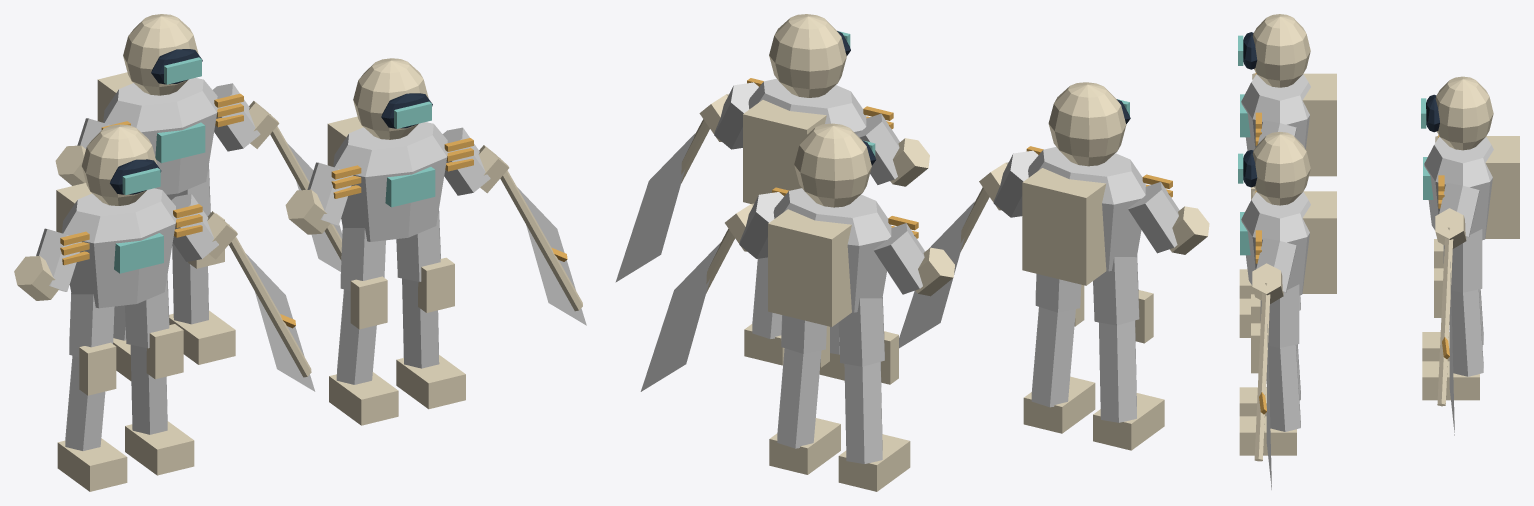
File: space_knight_l3_inactive.glb
3 renders of one model, left to right at view 1: azimuth 30°, elevation 25°; view 2: azimuth 150°, elevation 25°; view 3: azimuth 270°, elevation 25°, orthographic. The views are drawn at different scales.
Parts seen in each view (by area): view 1: WoodBody, FixedDetails, BrassTrim; view 2: WoodBody, FixedDetails, BrassTrim; view 3: FixedDetails, WoodBody, BrassTrim.
Boxes of the visible parts, x1,y1,x2,y2 form: WoodBody: (36,77,586,450); FixedDetails: (14,14,509,491); BrassTrim: (60,93,582,377); WoodBody: (615,78,1179,463); FixedDetails: (699,14,1209,491); BrassTrim: (681,78,1172,293); FixedDetails: (1238,14,1519,455); WoodBody: (1241,74,1493,489); BrassTrim: (1254,72,1453,461).
Bounding box in the file's own units: 0.675 × 0.3782 × 0.3238.
